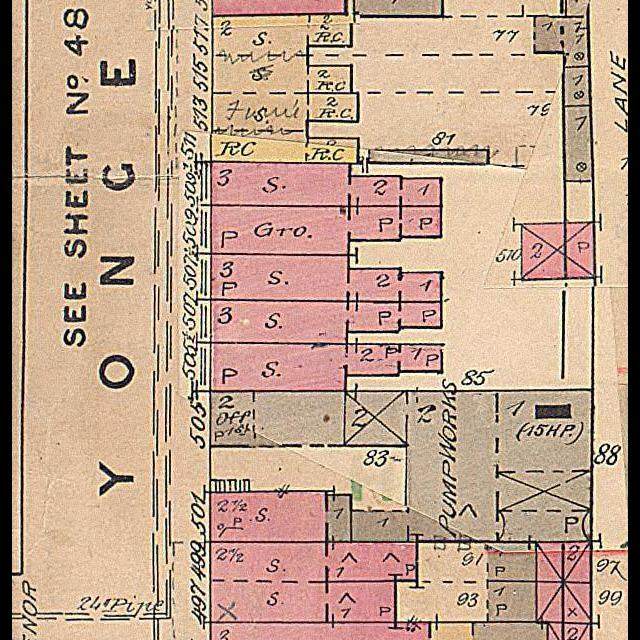building-footprints: (210, 390, 593, 542), (211, 14, 358, 163), (210, 542, 417, 622), (211, 205, 441, 255), (210, 343, 442, 391), (211, 254, 441, 302), (211, 300, 442, 344), (211, 162, 441, 206), (210, 391, 345, 446), (211, 622, 548, 640), (522, 224, 596, 279), (534, 0, 590, 67), (536, 582, 592, 623), (564, 106, 594, 181), (536, 542, 591, 582), (369, 150, 488, 165), (354, 0, 442, 16), (564, 67, 591, 106), (548, 623, 591, 640)
